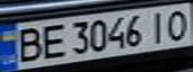0: (87, 16, 112, 52)
3: (66, 19, 90, 55)
4: (106, 13, 130, 51)
6: (124, 11, 151, 47)
B: (9, 25, 45, 64)
E: (36, 21, 69, 61)
I: (145, 9, 172, 44)
O: (160, 6, 193, 42)
